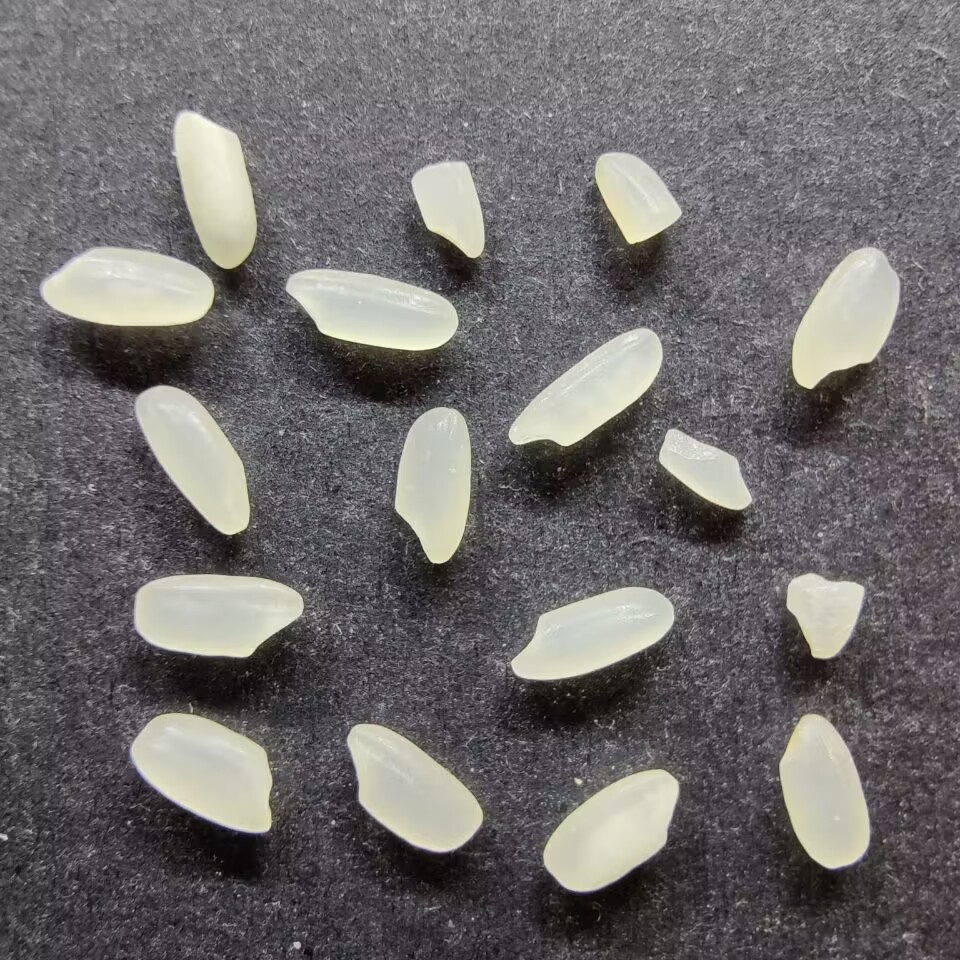broken: (593, 148, 685, 247), (657, 426, 755, 514), (408, 160, 489, 260), (784, 570, 867, 660)
rice: (505, 325, 666, 448), (132, 383, 252, 536), (344, 722, 484, 853), (128, 710, 273, 834), (540, 768, 679, 893), (508, 584, 677, 681), (789, 245, 901, 390), (285, 265, 460, 352), (132, 571, 304, 659), (776, 712, 872, 869), (37, 245, 216, 328), (170, 110, 260, 270), (391, 407, 475, 564)
